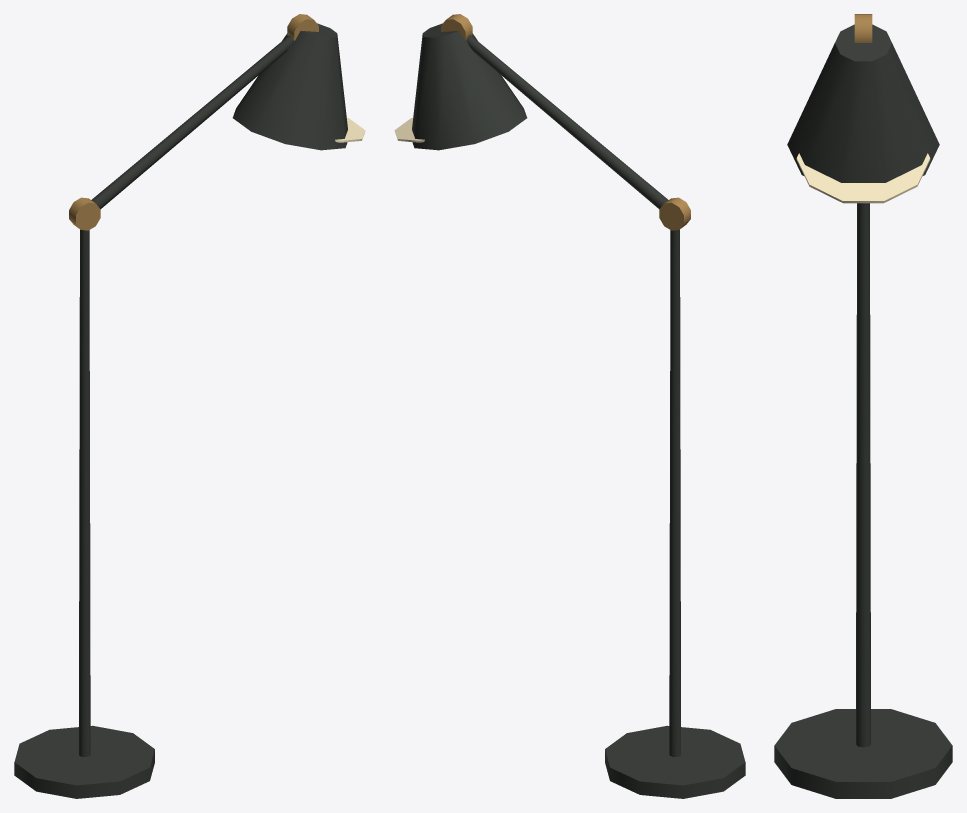
File: ranarp-mobile.glb
3 renders of one model, left to right at view 1: azimuth 30°, elevation 25°; view 2: azimuth 150°, elevation 25°; view 3: azimuth 270°, elevation 25°, orthographic. The views are drawn at different scales.
Visible parts, largest first — view 1: RANARP Reading floor lamp; view 2: RANARP Reading floor lamp; view 3: RANARP Reading floor lamp.
Part boxes in pixels (x1,y1,x2,y2): RANARP Reading floor lamp: [14, 14, 365, 798]; RANARP Reading floor lamp: [394, 14, 745, 798]; RANARP Reading floor lamp: [774, 14, 952, 798].
Size of the model in its own units: 0.76 by 1.53 by 0.28.
Materials: 3 (2 with a texture image).
